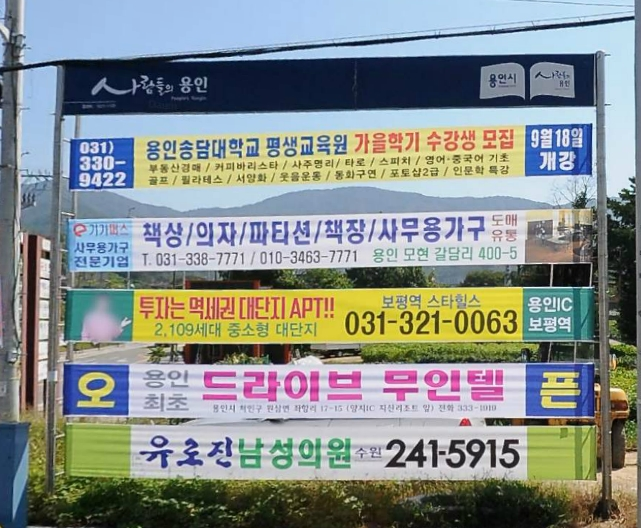banner: (65, 415, 629, 490), (51, 202, 635, 273), (58, 279, 606, 351), (54, 353, 605, 419), (57, 125, 601, 186)
